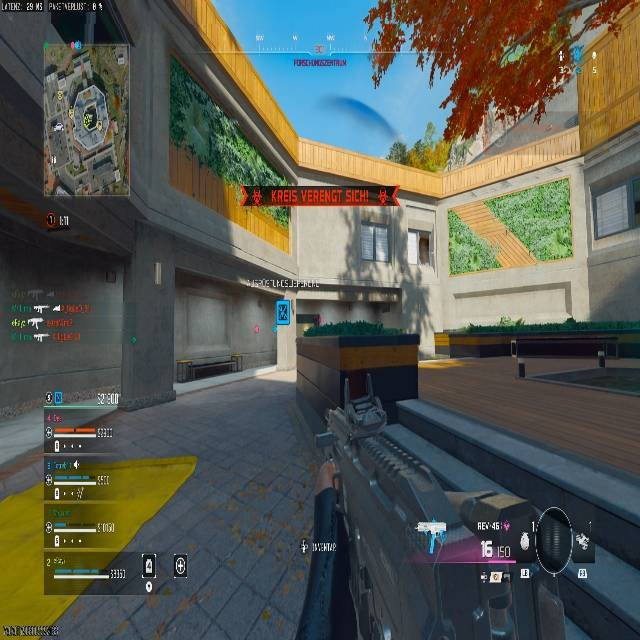player: (363, 2, 409, 89)
